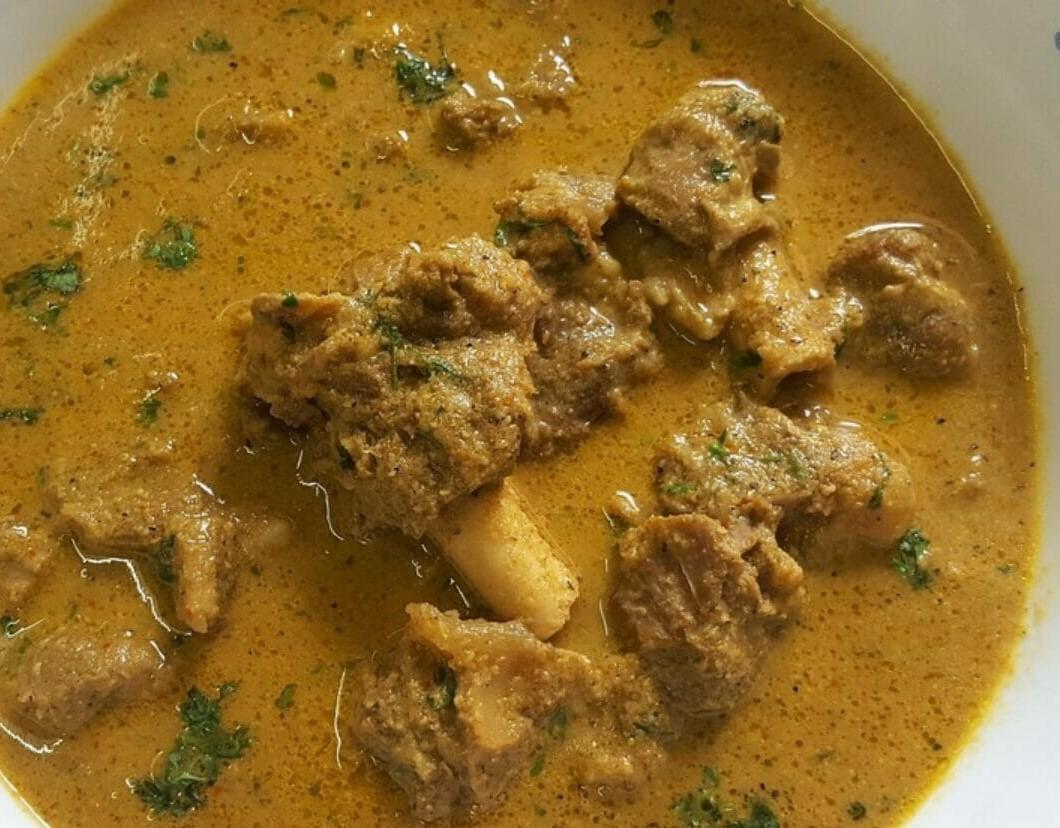MuttonCurry: (0, 0, 1031, 828)
